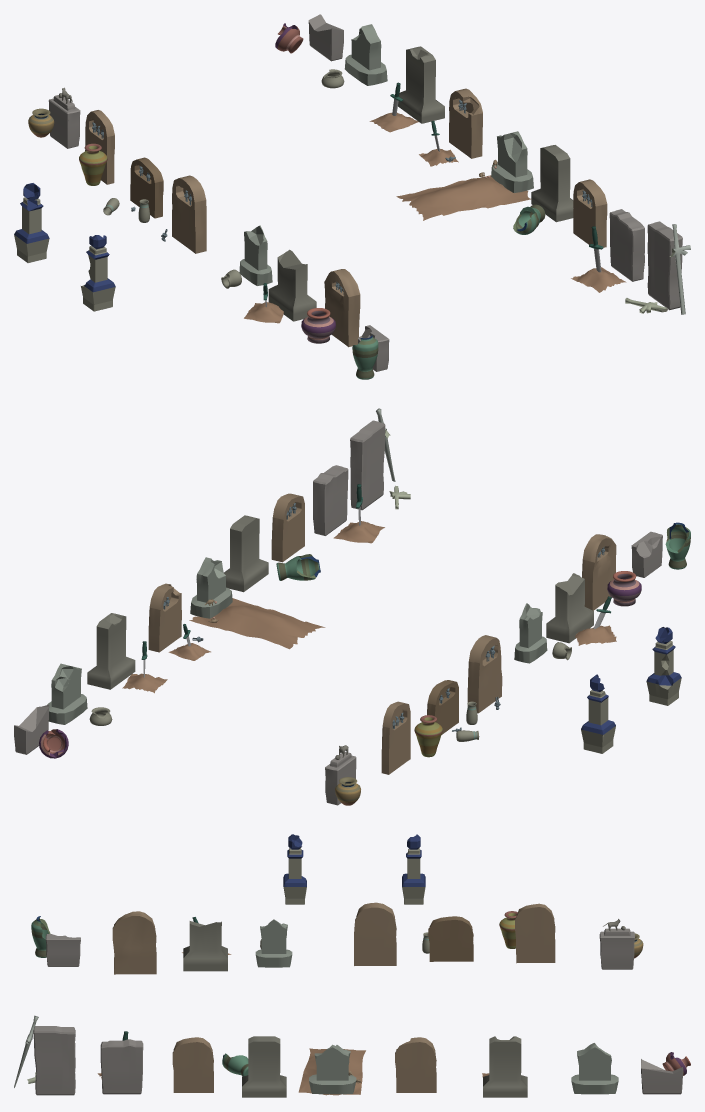
The model's file is cemetery.fbx.
3 views of the same model, one above another, from view 1: azimuth 30°, elevation 25°; view 2: azimuth 150°, elevation 25°; view 3: azimuth 270°, elevation 25° (orthographic). The views are drawn at different scales.
Parts seen in each view (by area): view 1: pPlane2, pCube21, chipped_sword_grave, grave, pCube26, grave_w_sword, pCube22, broken_grave_w_sword, grave_w_statues_and_sword, grave_w_statues, pCube8, pCube16 (+17 smaller); view 2: pPlane2, pCube21, chipped_sword_grave, grave, pCube26, broken_grave_w_sword, grave_w_sword, pCube22, grave_w_statues, grave_w_statues_and_sword, pCube33, pCube28 (+15 smaller); view 3: pCube21, pCube22, pCube26, grave_w_sword, grave, pCube28, chipped_sword_grave, grave_w_statues, grave_w_statues_and_sword, pCube27, broken_grave_w_sword, chipped_grave (+11 smaller).
Part boxes in pixels (left/top/right/bottom): pPlane2: left=396, top=175, right=530, bottom=220; pCube21: left=647, top=221, right=682, bottom=310; chipped_sword_grave: left=398, top=46, right=444, bottom=123; grave: left=531, top=145, right=573, bottom=222; pCube26: left=172, top=175, right=206, bottom=253; grave_w_sword: left=609, top=209, right=644, bottom=281; pCube22: left=324, top=269, right=360, bottom=347; broken_grave_w_sword: left=268, top=249, right=316, bottom=321; grave_w_statues_and_sword: left=449, top=88, right=482, bottom=158; grave_w_statues: left=573, top=179, right=607, bottom=247; pCube8: left=491, top=131, right=533, bottom=192; pCube16: left=14, top=183, right=49, bottom=262; pPlane2: left=189, top=598, right=325, bottom=649; pCube21: left=350, top=420, right=385, bottom=510; chipped_sword_grave: left=87, top=613, right=135, bottom=689; grave: left=224, top=515, right=268, bottom=592; pCube26: left=467, top=635, right=502, bottom=713; broken_grave_w_sword: left=546, top=573, right=593, bottom=643; grave_w_sword: left=313, top=465, right=348, bottom=535; pCube22: left=582, top=534, right=616, bottom=610; grave_w_statues: left=271, top=493, right=304, bottom=562; grave_w_statues_and_sword: left=148, top=583, right=181, bottom=652; pCube33: left=646, top=627, right=681, bottom=705; pCube28: left=381, top=701, right=410, bottom=774; pCube21: left=33, top=1026, right=75, bottom=1095; pCube22: left=112, top=911, right=156, bottom=974; pCube26: left=354, top=902, right=396, bottom=965; grave_w_sword: left=100, top=1039, right=143, bottom=1094; grave: left=242, top=1036, right=286, bottom=1097; pCube28: left=515, top=903, right=555, bottom=963; chipped_sword_grave: left=483, top=1036, right=527, bottom=1097; grave_w_statues: left=172, top=1037, right=213, bottom=1092; grave_w_statues_and_sword: left=395, top=1037, right=436, bottom=1092; pCube27: left=428, top=916, right=473, bottom=961; broken_grave_w_sword: left=183, top=921, right=227, bottom=971; chipped_grave: left=571, top=1043, right=618, bottom=1094.
Size of the model in its own units: 46.88 by 8.31 by 66.19.
